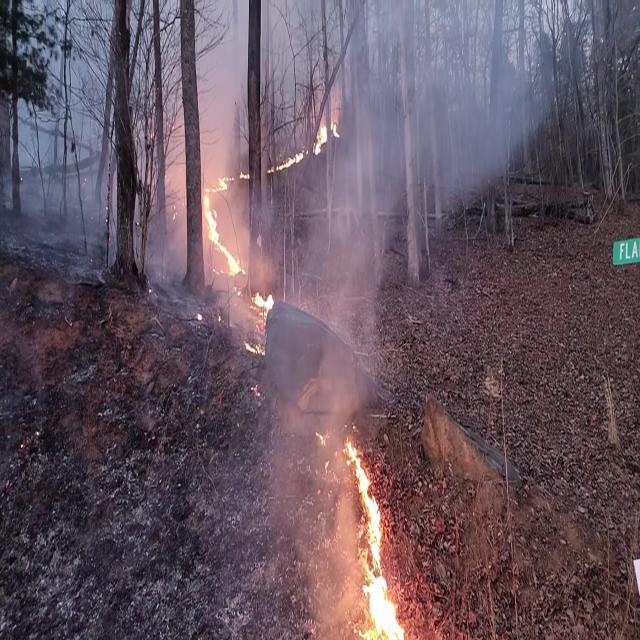Fire: (340, 430, 408, 640), (200, 168, 243, 280), (310, 116, 332, 154), (253, 285, 275, 315)
Smoke: (260, 129, 408, 405), (340, 0, 571, 176)
